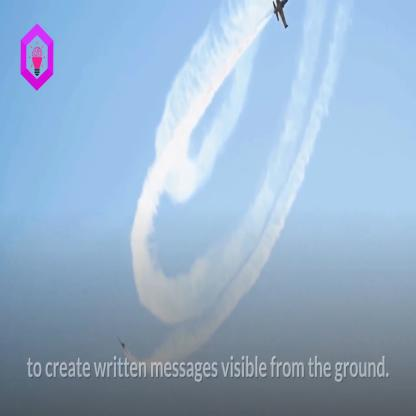plane: (270, 0, 291, 32)
